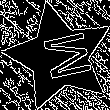M_W: (29, 28, 90, 85)
